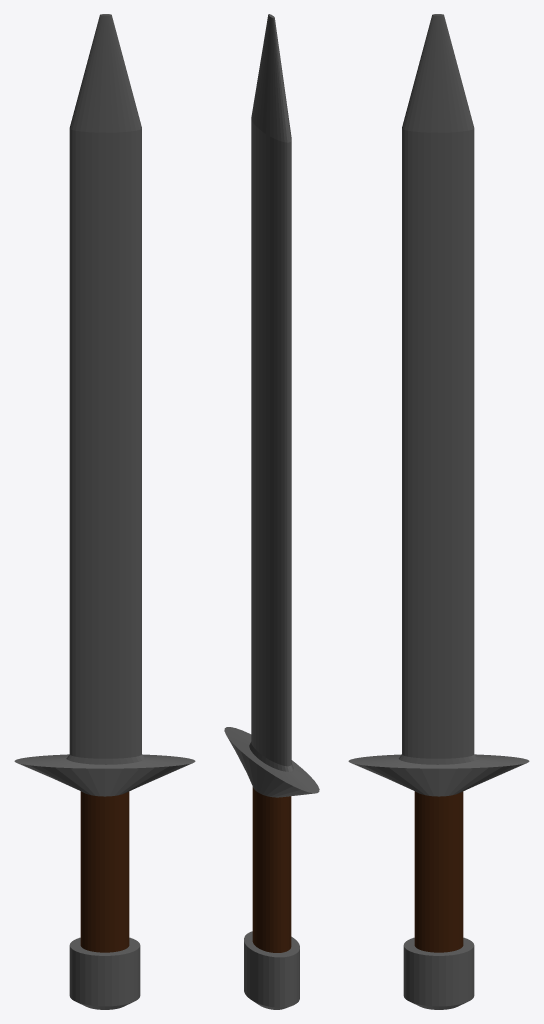
The model's file is shortsword.fbx.
3 views of the same model, side by side, from view 1: azimuth 90°, elevation 25°; view 2: azimuth 210°, elevation 25°; view 3: azimuth 270°, elevation 25° (orthographic).
Visible parts, largest first — view 1: Cylinder, Cylinder.001; view 2: Cylinder, Cylinder.001; view 3: Cylinder, Cylinder.001.
Part boxes in pixels (x1,y1,x2,y2): Cylinder: [66, 14, 145, 764]; Cylinder.001: [14, 754, 195, 1009]; Cylinder: [249, 14, 293, 771]; Cylinder.001: [224, 727, 319, 1009]; Cylinder: [398, 14, 477, 764]; Cylinder.001: [348, 754, 529, 1009].
Bounding box in the file's own units: 14.51 × 311 × 51.7.
